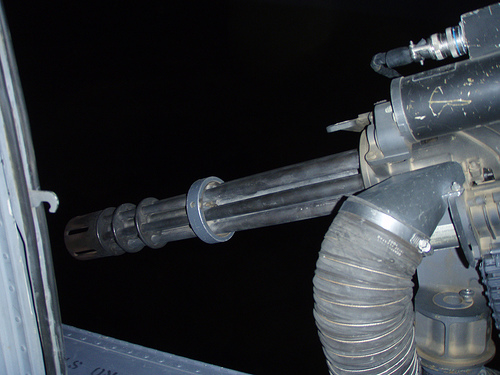rifle: (40, 19, 491, 322)
